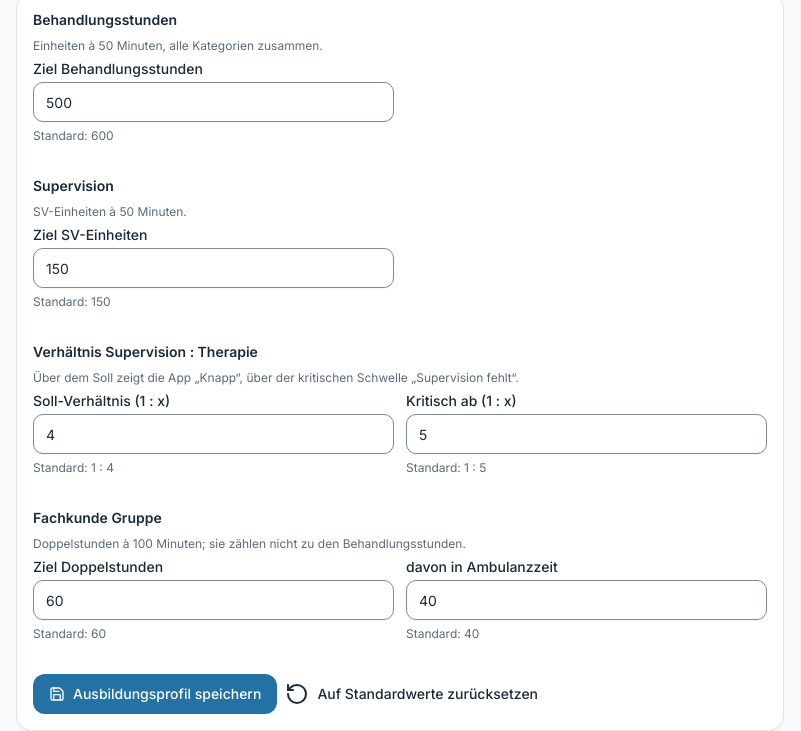
Test: AusbildungsprofilForm › meldet nach dem Zurücksetzen die Standardwerte statt „Gespeichert.“
(page scrolled)
Click the button "Auf Standardwerte zurücksetzen".
click(412, 694)  # box [285, 682, 538, 706]
(page scrolled)
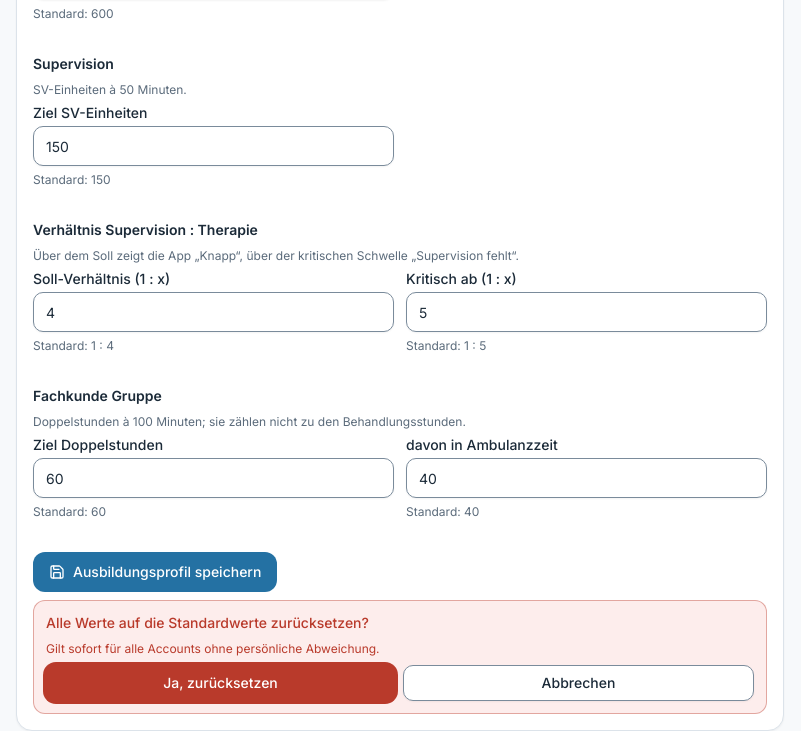
Click the button "Ja, zurücksetzen".
click(220, 683)  # box [46, 665, 395, 701]
(page scrolled)
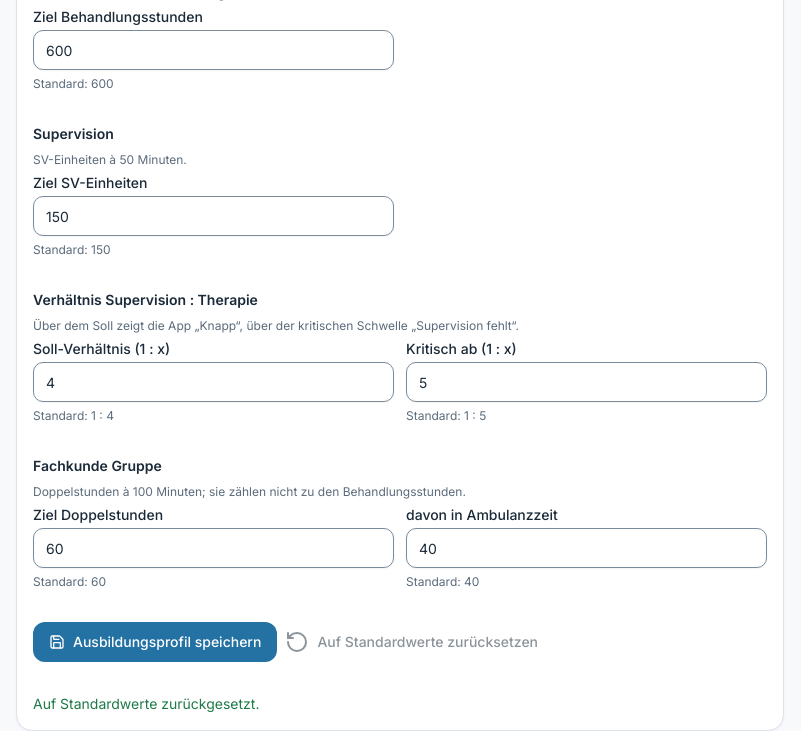
Result: the message reads "Auf Standardwerte zurückgesetzt." at [33, 695, 259, 712]
Result: the field labelled "Ziel Behandlungsstunden" holds "600" at [33, 30, 394, 70]
